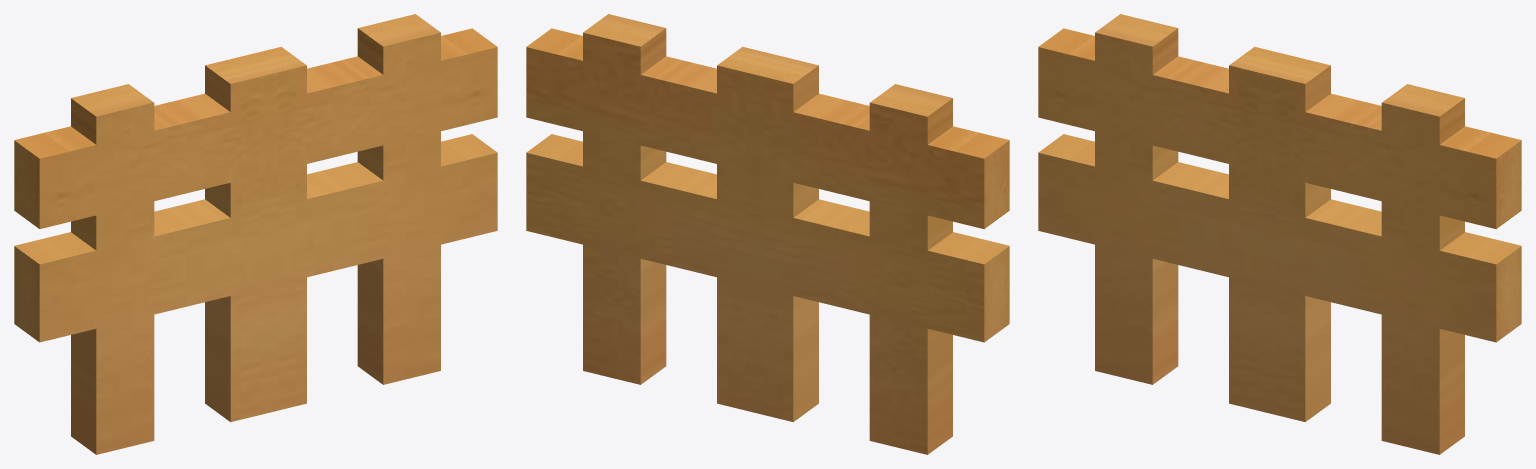
3 renders of one model, left to right at view 1: azimuth 30°, elevation 25°; view 2: azimuth 150°, elevation 25°; view 3: azimuth 330°, elevation 25°, orthographic.
Visible parts, largest first — view 1: 立方体, 立方体_2; view 2: 立方体, 立方体_2; view 3: 立方体, 立方体_2.
Boxes of the visible parts, <box> form: 立方体: <box>14,14,497,454</box>; 立方体_2: <box>14,28,497,454</box>; 立方体: <box>526,14,1009,454</box>; 立方体_2: <box>526,28,1009,454</box>; 立方体: <box>1038,14,1521,454</box>; 立方体_2: <box>1038,28,1521,454</box>.
Size of the model in its own units: 284 by 200 by 27.33.
Materials: 1 (1 with a texture image).
